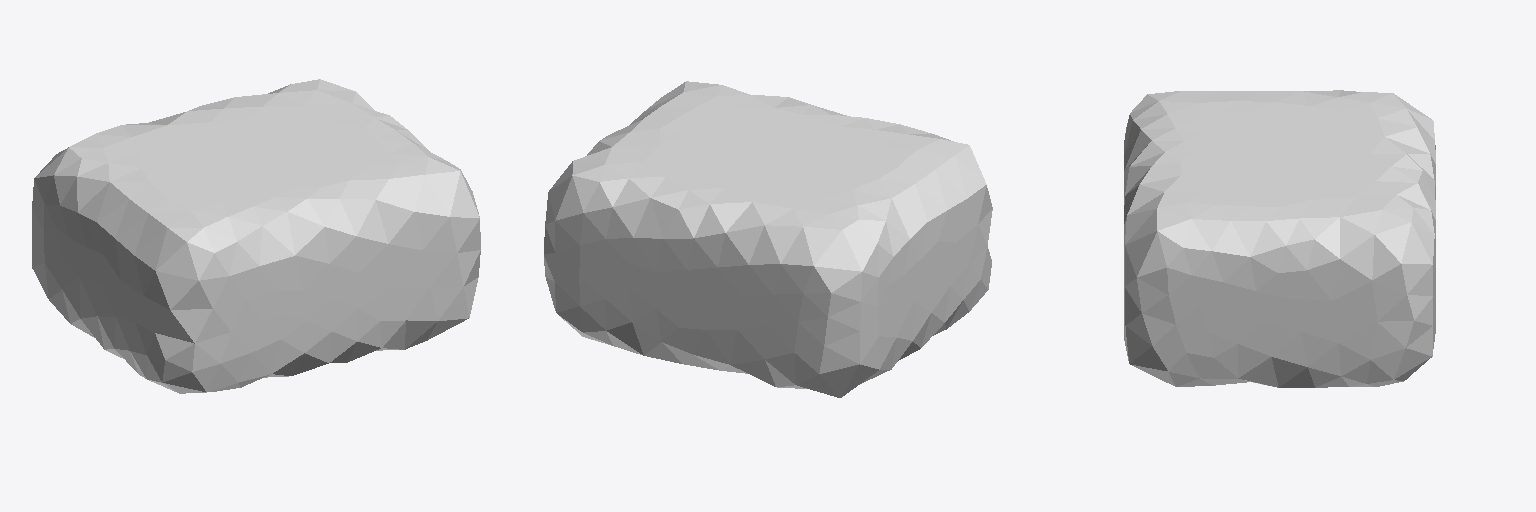
3 renders of one model, left to right at view 1: azimuth 30°, elevation 25°; view 2: azimuth 150°, elevation 25°; view 3: azimuth 270°, elevation 25°, orthographic.
Parts seen in each view (by area): view 1: front_handle_bag; view 2: front_handle_bag; view 3: front_handle_bag.
Boxes of the visible parts, x1,y1,x2,y2 form: front_handle_bag: [32, 79, 480, 393]; front_handle_bag: [544, 81, 992, 397]; front_handle_bag: [1124, 90, 1435, 387].
Size of the model in its own units: 0.5 by 0.3 by 0.42.
1 materials, 1 textured.